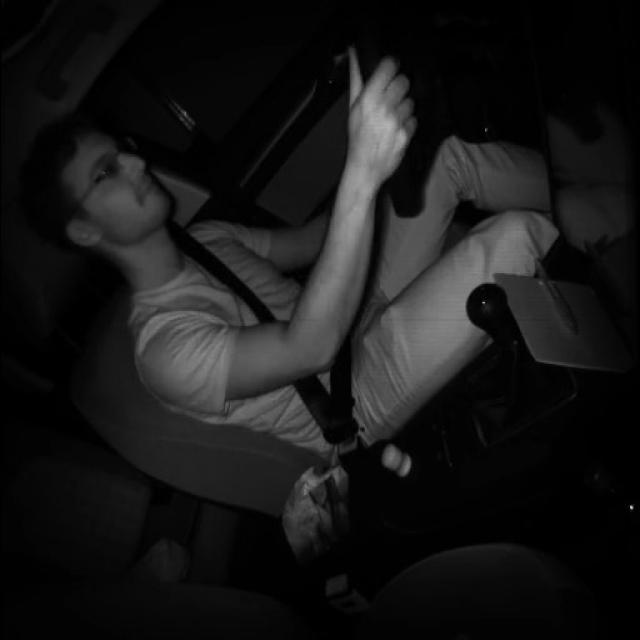pen: (534, 257, 584, 342)
